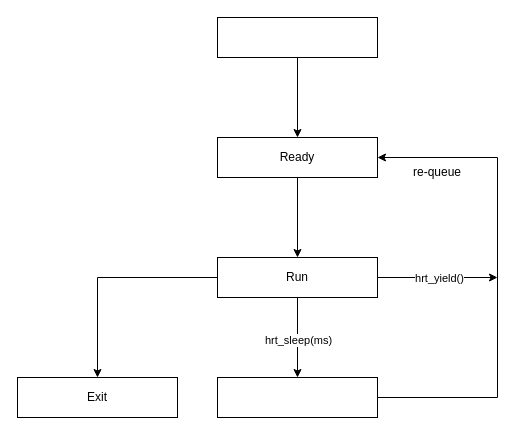
Some shapes in this 523 by 435 pixel diagram are drawn without their labels. Each missing label, with the centre of its shape:
"Created" belongs at (297,37).
"Sleep" belongs at (297,397).
